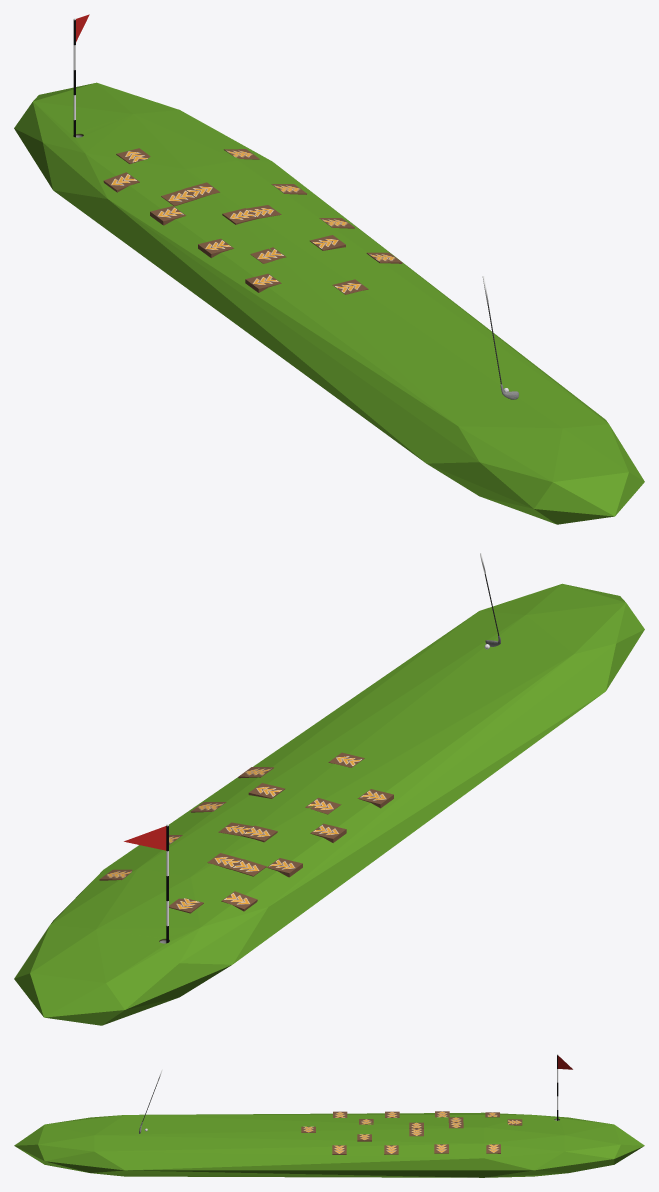
The model's file is level_4.glb.
3 views of the same model, one above another, from view 1: azimuth 30°, elevation 25°; view 2: azimuth 150°, elevation 25°; view 3: azimuth 270°, elevation 25° (orthographic). The views are drawn at different scales.
Visible parts, largest first — view 1: grass; view 2: grass; view 3: grass.
Part boxes in pixels (x1,y1,x2,y2): grass: (14,82,644,524); grass: (14,583,644,1025); grass: (14,1112,644,1177).
Bounding box in the file's own units: 37.6 × 35.99 × 209.
12 materials, 1 textured.
